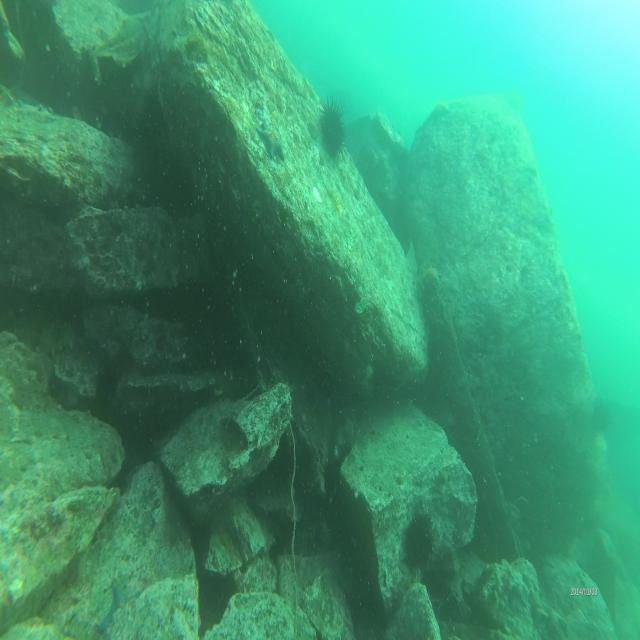echinus: (400, 508, 436, 573), (316, 93, 348, 164)
starfish: (100, 584, 141, 640), (256, 116, 284, 164), (422, 261, 442, 290)
